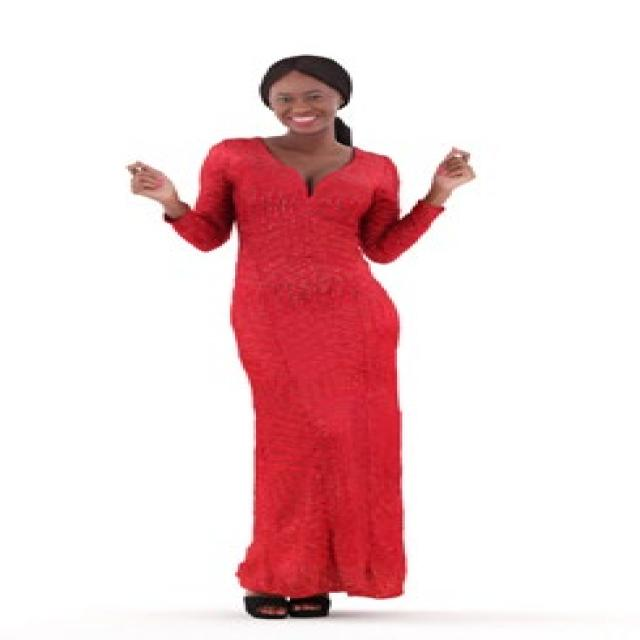standing: (120, 55, 490, 616)
